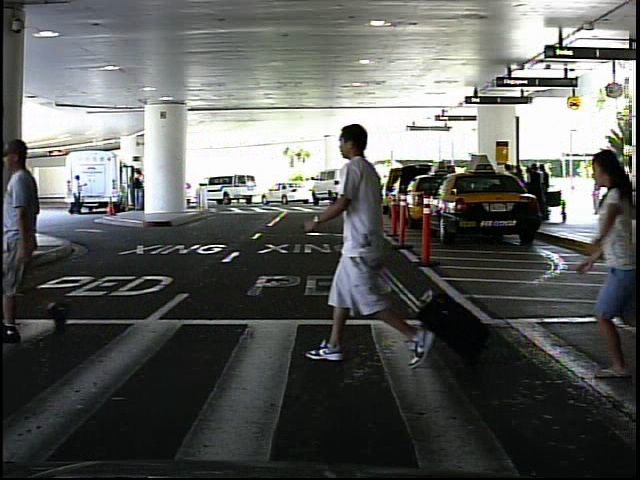person: (324, 110, 422, 376), (67, 172, 85, 217), (593, 172, 602, 218)
